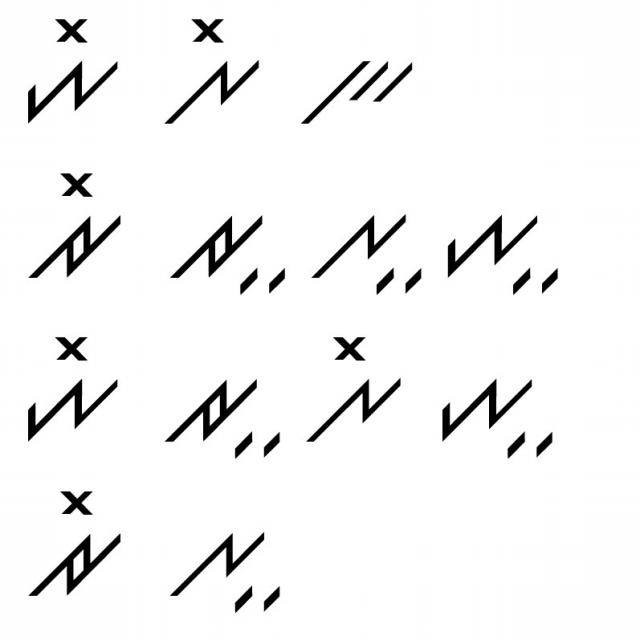lah: (158, 510, 288, 628), (312, 201, 434, 311)
lo: (158, 13, 268, 132), (304, 328, 407, 448)
rah: (158, 364, 292, 471), (165, 205, 292, 307)
ro: (17, 166, 125, 290), (25, 478, 129, 603)
yah: (428, 361, 567, 474), (443, 203, 568, 308)
yo: (12, 328, 126, 444), (20, 5, 128, 124)
